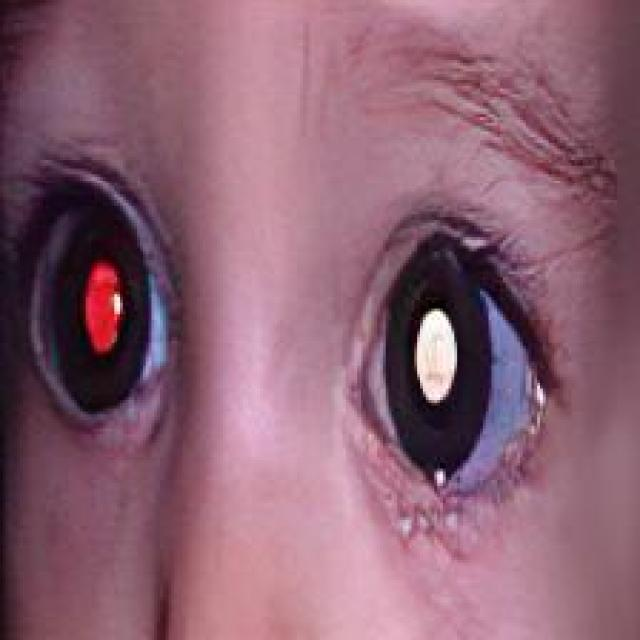reflexo-alterado: (349, 232, 540, 504)
reflexo-normal: (18, 164, 177, 421)
